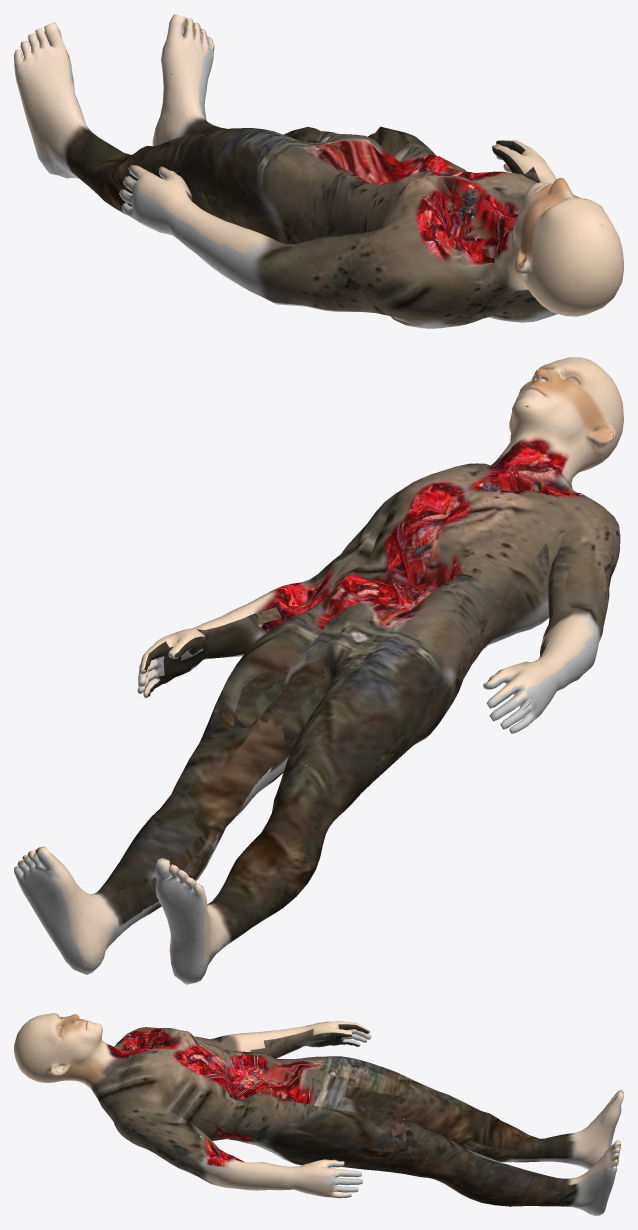
File: deadhumanblend.fbx
3 views of the same model, one above another, from view 1: azimuth 30°, elevation 25°; view 2: azimuth 150°, elevation 25°; view 3: azimuth 270°, elevation 25° (orthographic). The views are drawn at different scales.
Visible parts, largest first — view 1: Realistic_White_Male_Low_Poly; view 2: Realistic_White_Male_Low_Poly; view 3: Realistic_White_Male_Low_Poly.
Boxes of the visible parts, bbox=[...] form: Realistic_White_Male_Low_Poly: bbox=[14, 14, 623, 328]; Realistic_White_Male_Low_Poly: bbox=[14, 357, 623, 984]; Realistic_White_Male_Low_Poly: bbox=[14, 1013, 623, 1215].
Size of the model in its own units: 83.42 by 61.4 by 179.
1 material, 1 textured.
